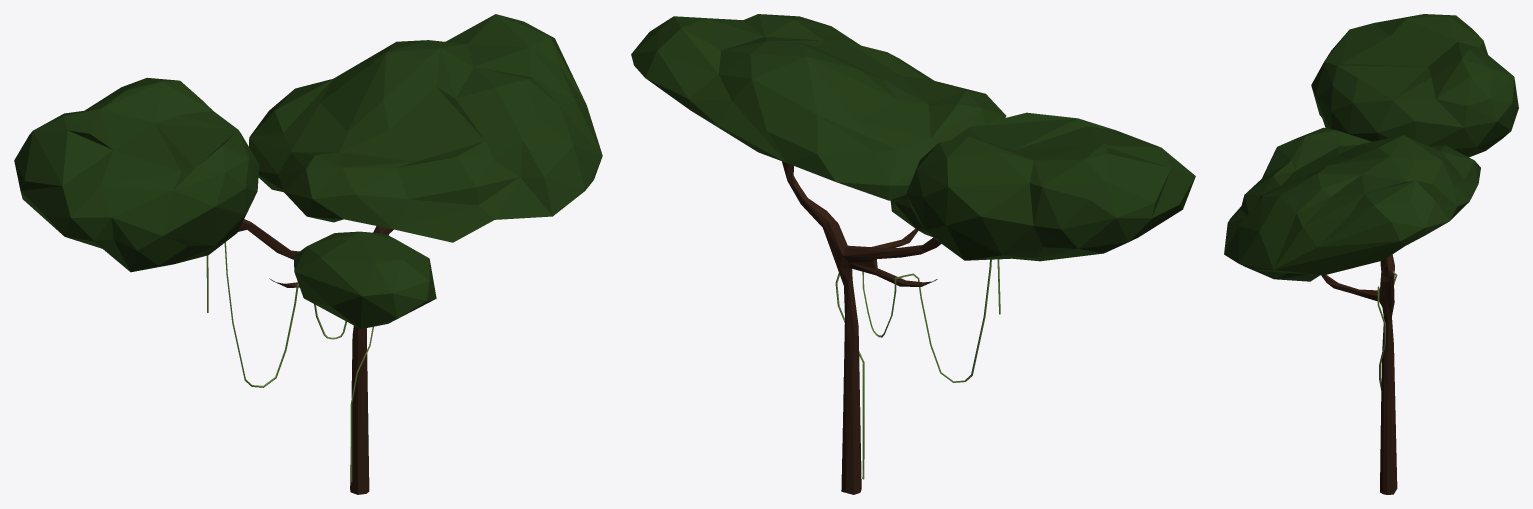
Rendered from SM_tree_jungle_01.fbx.
3 renders of one model, left to right at view 1: azimuth 30°, elevation 25°; view 2: azimuth 150°, elevation 25°; view 3: azimuth 270°, elevation 25°, orthographic. The views are drawn at different scales.
Parts seen in each view (by area): view 1: Object001; view 2: Object001; view 3: Object001.
Part boxes in pixels (bbox=[...]): Object001: bbox=[14, 14, 602, 494]; Object001: bbox=[631, 14, 1195, 494]; Object001: bbox=[1224, 14, 1518, 494].
Bounding box in the file's own units: 444 × 348 × 248.
